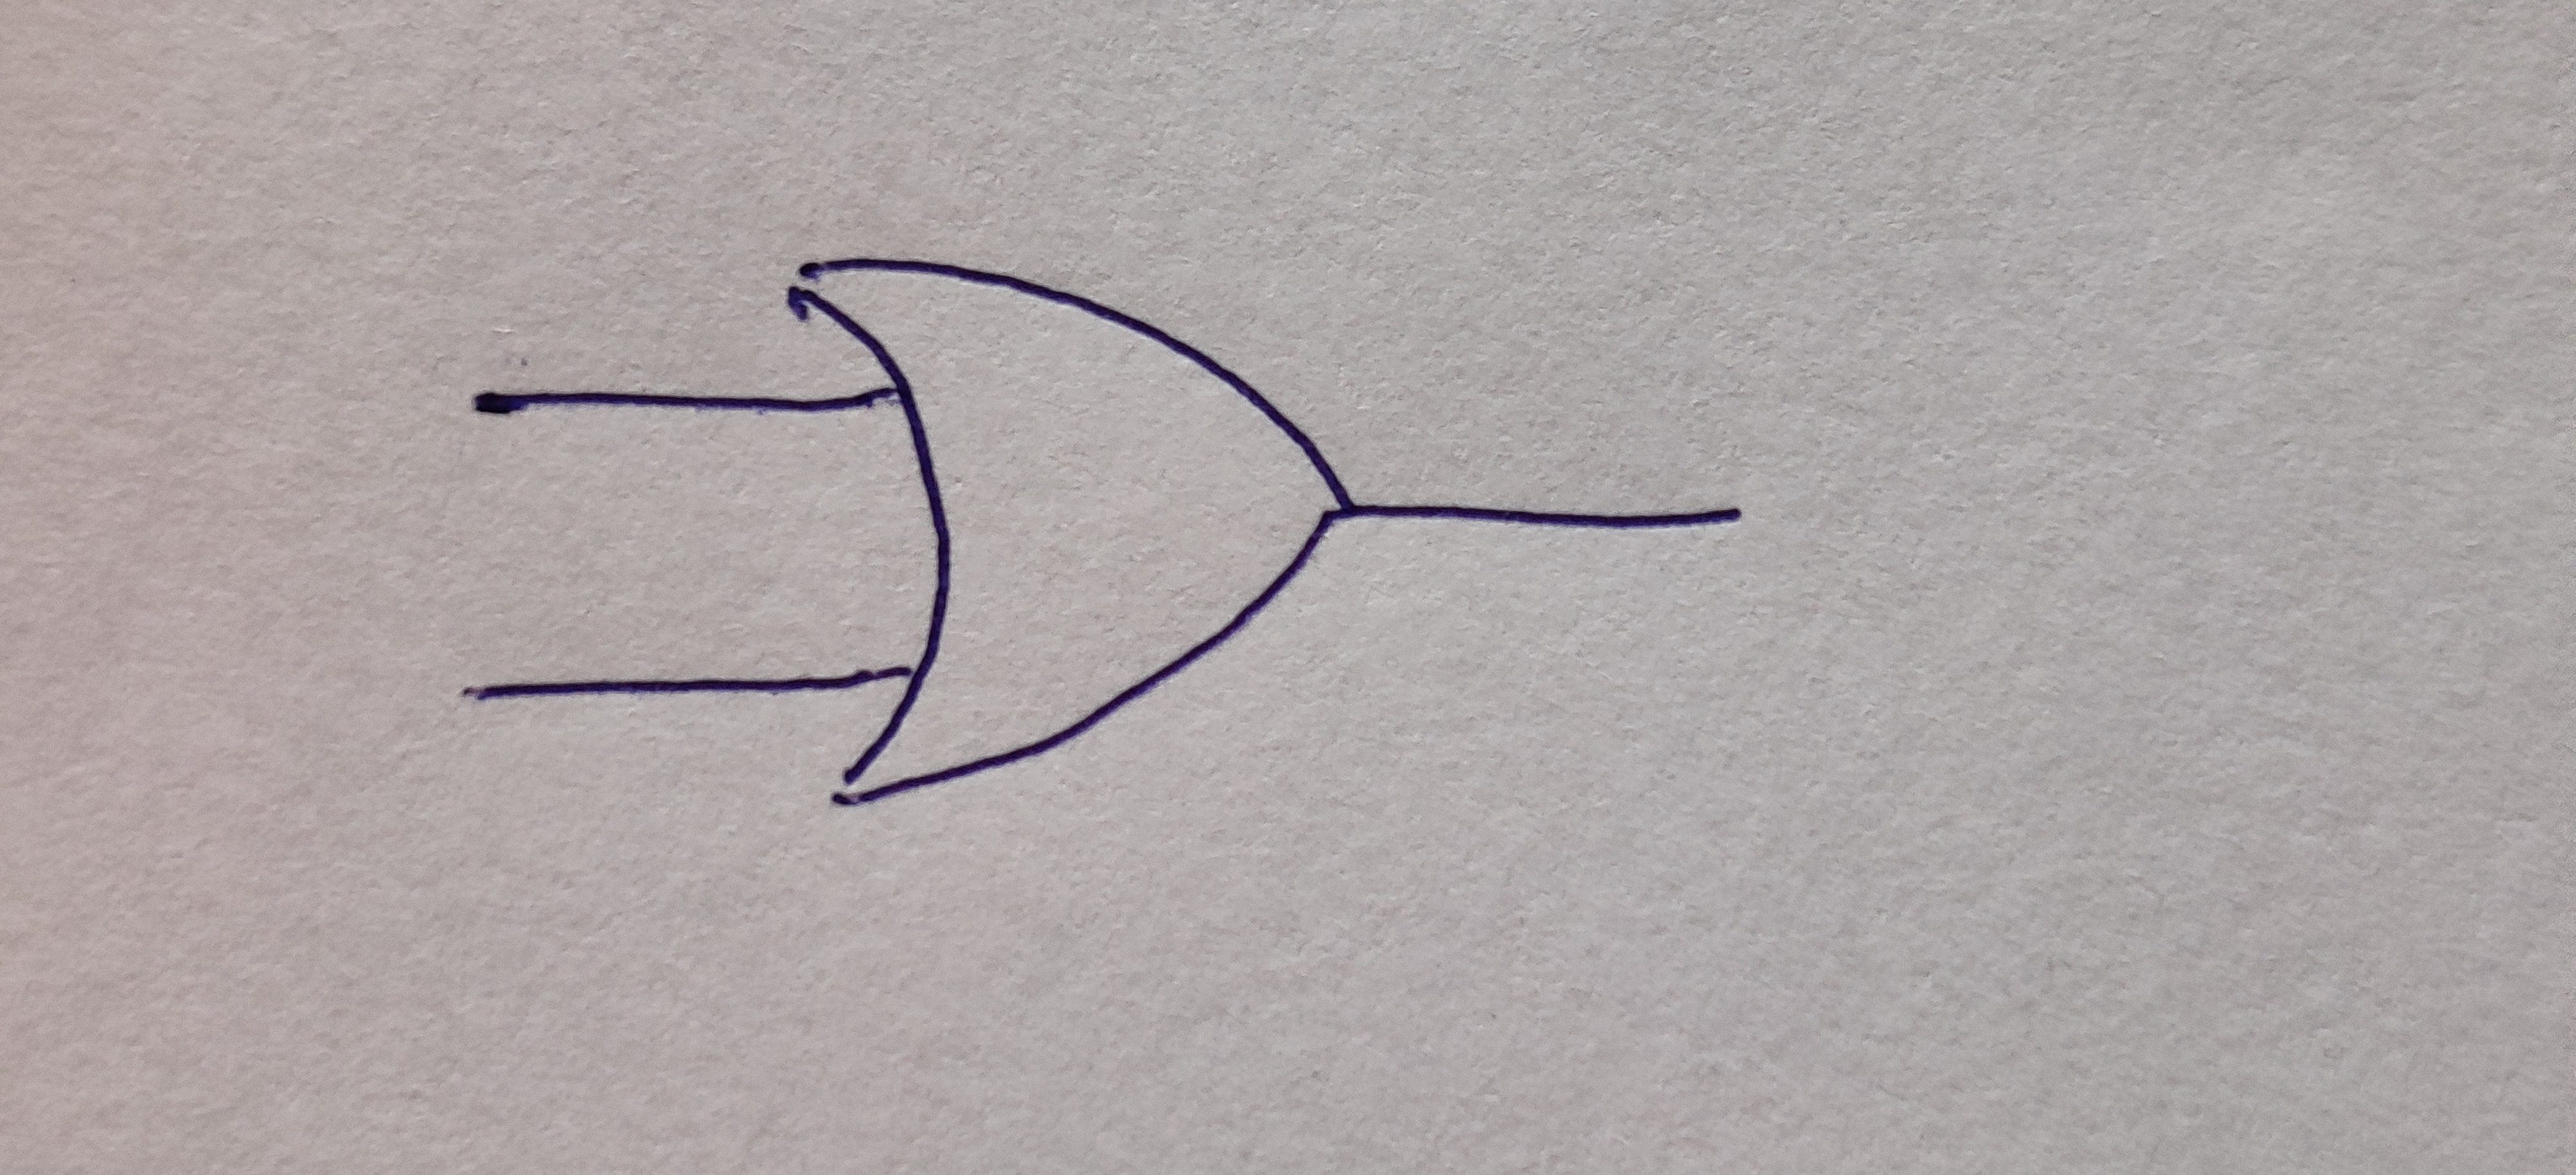or: (797, 256, 1354, 802)
